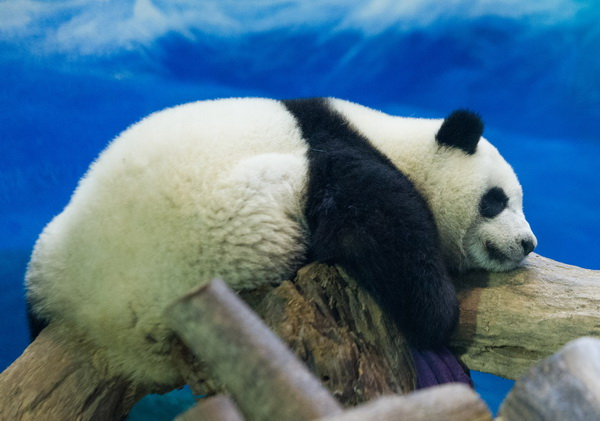panda: (30, 83, 549, 387)
